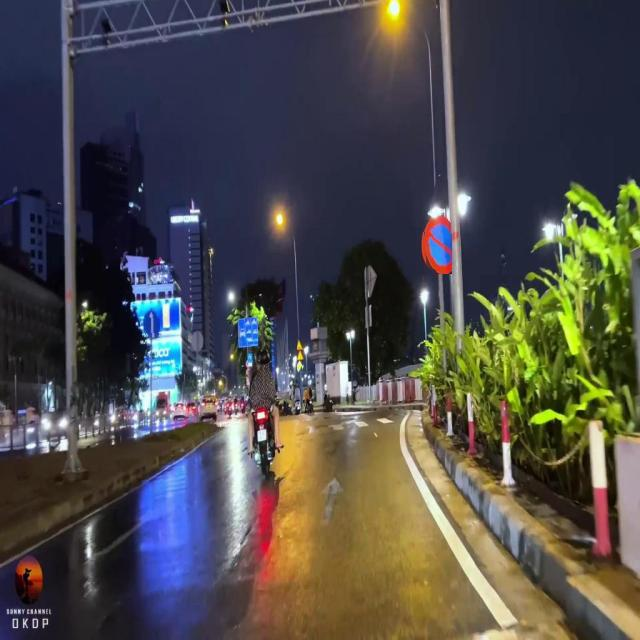cam_do_xe: (422, 213, 452, 274)
cho_quay_xe: (248, 353, 253, 362)
chu_y_nguoi_di_bo_cat_ngang: (297, 350, 305, 361)
duong_co_song_map_mo_nhan_tao: (298, 338, 304, 351)
duong_mot_chieu: (144, 310, 160, 338)
duong_uu_tien: (298, 360, 304, 372)
lan_duong_cho_tung_xe_theo_vach_ke_duong: (238, 318, 258, 346)
